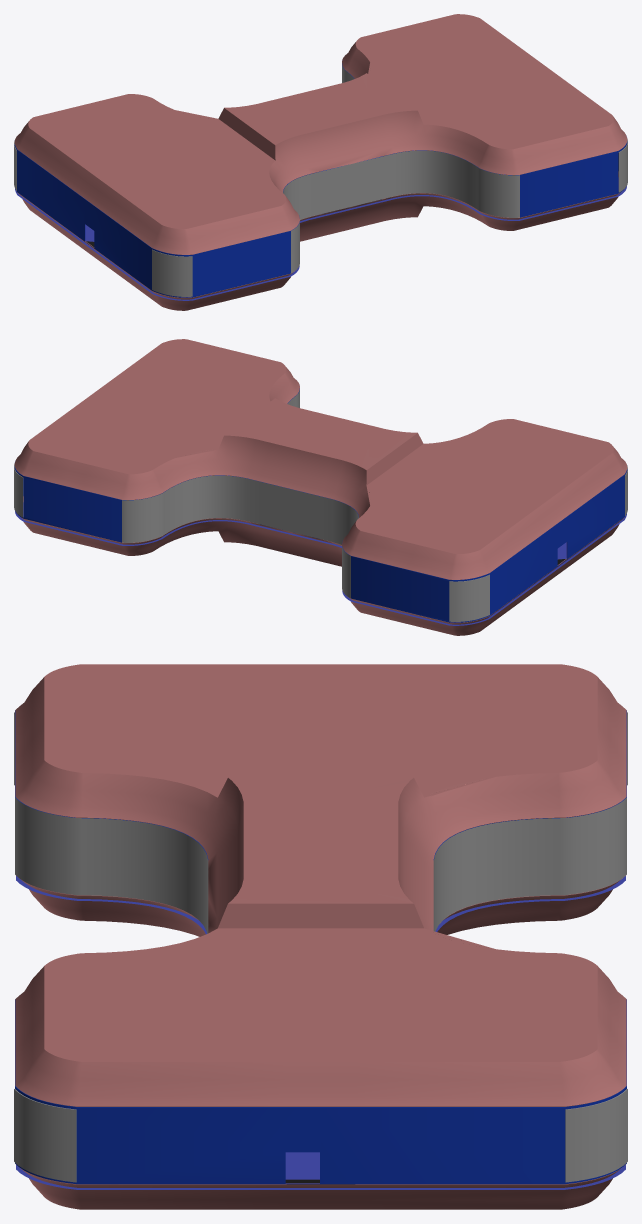
File: SS Glass Floor Room.FBX
3 renders of one model, top to bottom at view 1: azimuth 30°, elevation 25°; view 2: azimuth 150°, elevation 25°; view 3: azimuth 270°, elevation 25°, orthographic. The views are drawn at different scales.
Visible parts, largest first — view 1: Plane089, Floor11; view 2: Plane089, Floor11; view 3: Plane089, Floor11.
Boxes of the visible parts, x1=… form: Plane089: x1=14, y1=14, x2=627, y2=310; Floor11: x1=15, y1=177, x2=626, y2=300; Plane089: x1=14, y1=339, x2=627, y2=635; Floor11: x1=15, y1=502, x2=626, y2=625; Plane089: x1=14, y1=664, x2=627, y2=1209; Floor11: x1=16, y1=876, x2=625, y2=1189.
Bounding box in the file's own units: 115 × 24.8 × 71.54.
